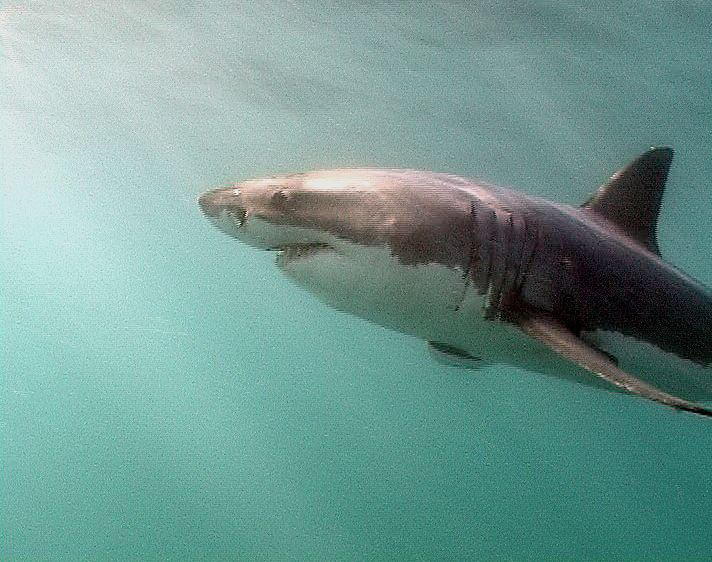Carcharodon_carcharias: (176, 139, 712, 438)
